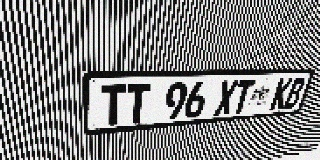6: (183, 81, 209, 119)
9: (163, 82, 189, 120)
B: (283, 78, 307, 109)
K: (269, 78, 293, 110)
T: (101, 84, 126, 127), (125, 83, 151, 124), (231, 80, 255, 114)
X: (214, 80, 239, 116)
